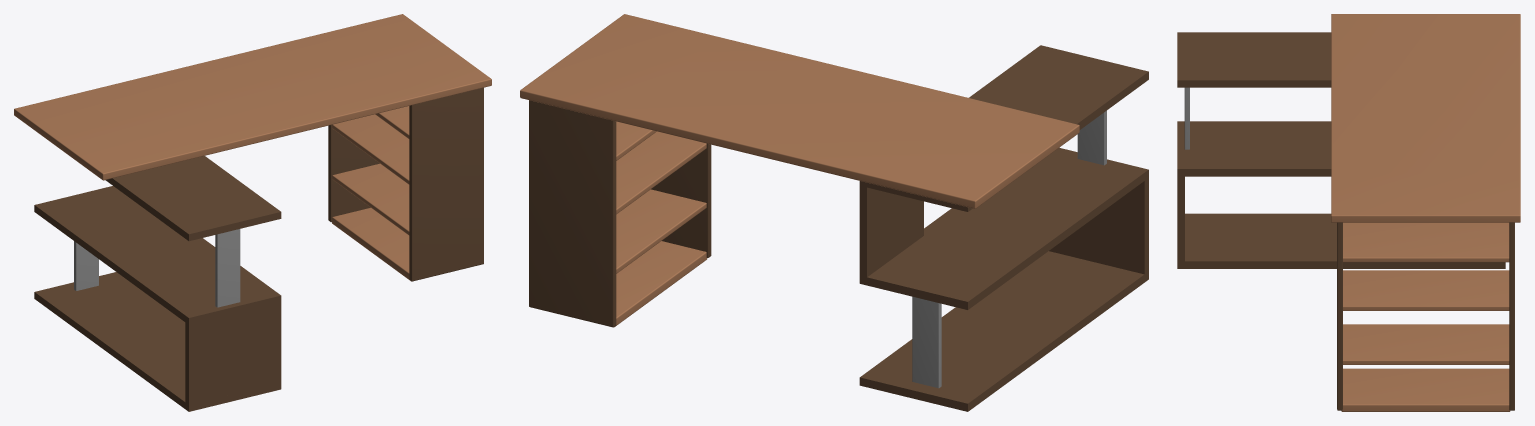
The model's file is desk5.fbx.
3 renders of one model, left to right at view 1: azimuth 30°, elevation 25°; view 2: azimuth 150°, elevation 25°; view 3: azimuth 270°, elevation 25°, orthographic. The views are drawn at different scales.
Visible parts, largest first — view 1: BasicDesk_Modern; view 2: BasicDesk_Modern; view 3: BasicDesk_Modern.
Part boxes in pixels (box(x1,y1,x2,y2)): BasicDesk_Modern: box(14, 14, 491, 411); BasicDesk_Modern: box(520, 14, 1148, 411); BasicDesk_Modern: box(1177, 14, 1520, 411).
Size of the model in its own units: 293 by 135 by 210.
